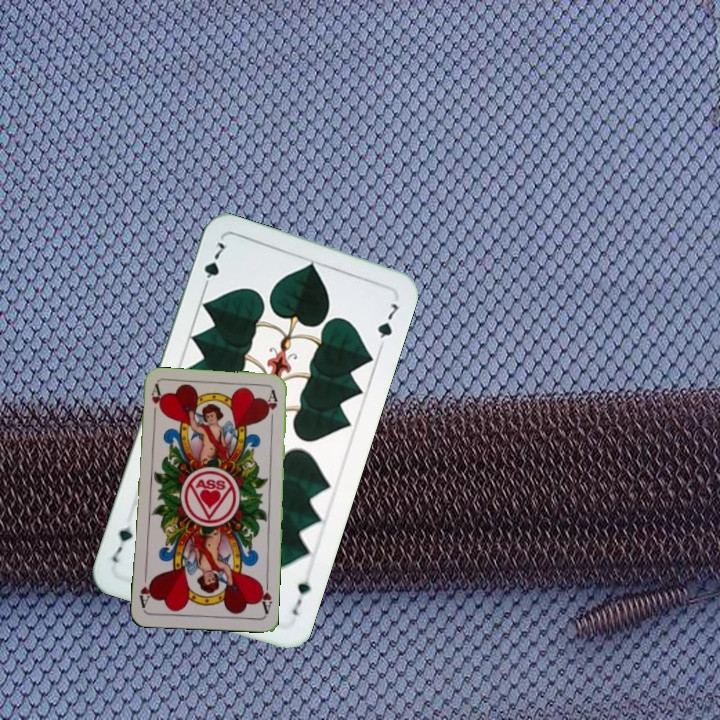G7: (198, 238, 228, 294), (288, 576, 313, 618)
HA: (255, 576, 275, 616), (147, 382, 163, 422)
